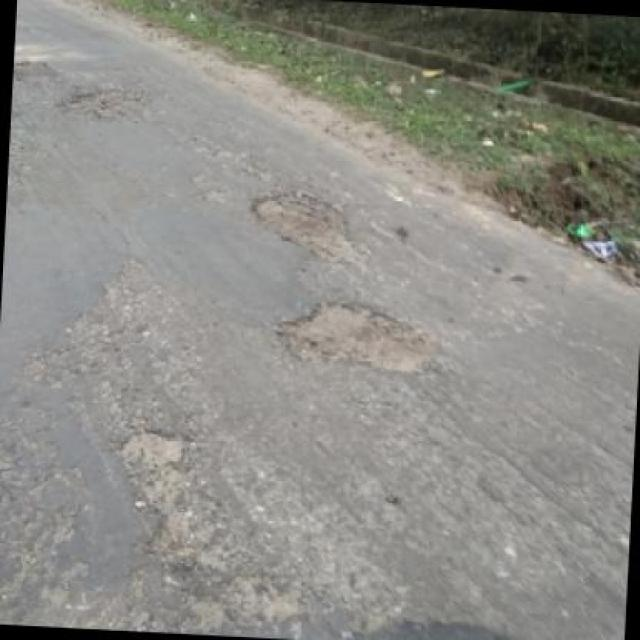pothole1: (271, 292, 434, 378), (241, 186, 365, 269), (110, 422, 188, 478), (58, 82, 140, 126), (12, 54, 58, 83)
